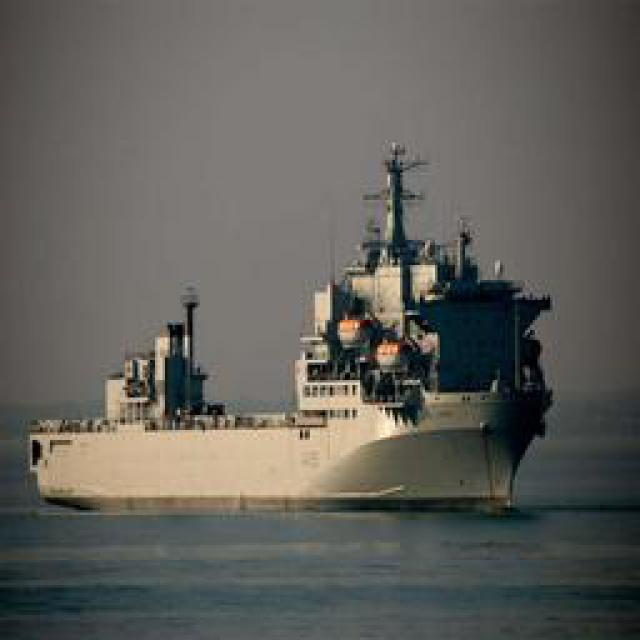Ship: (305, 149, 550, 514)
